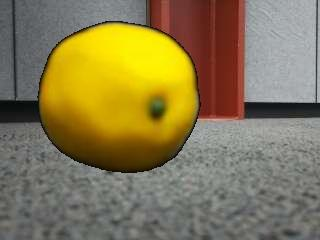lemon: (39, 22, 200, 173)
